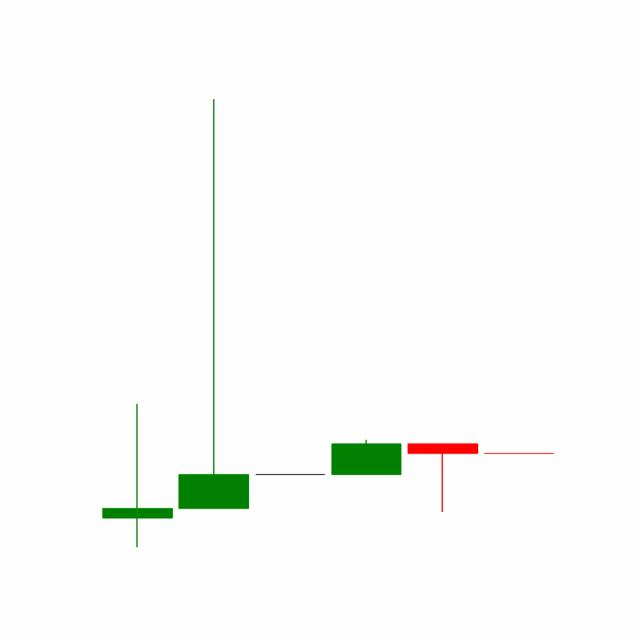Hanging Man: (403, 442, 481, 512)
